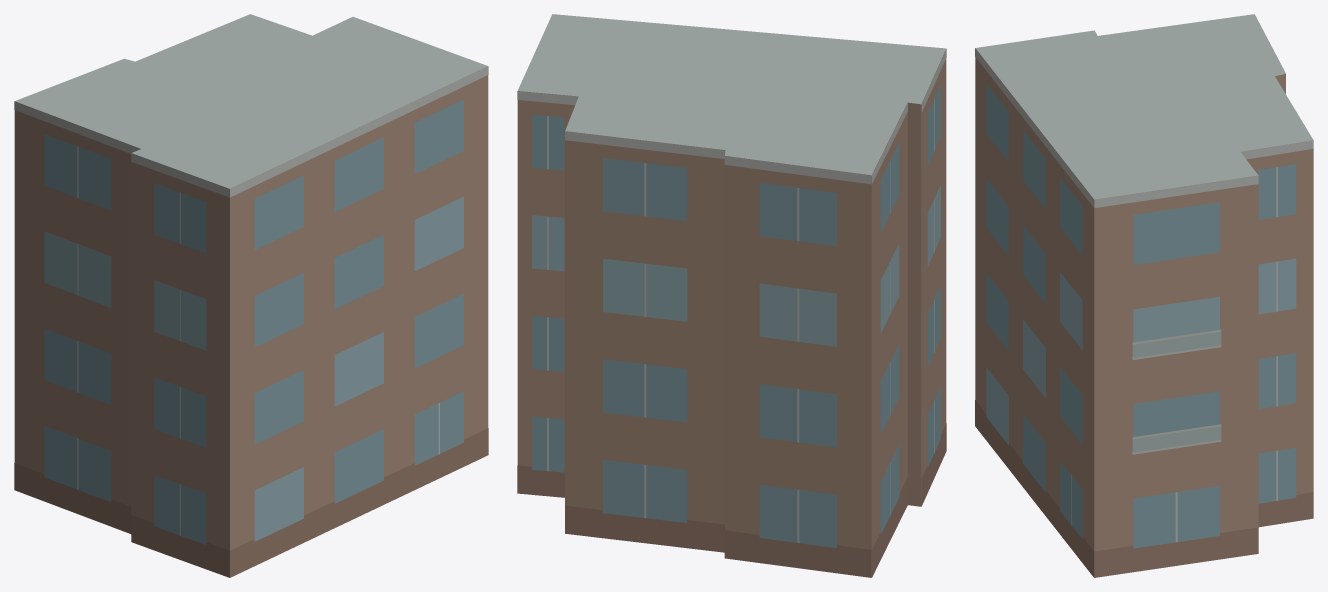
The model's file is survey-upis-32462326.glb.
The picture shows the model from 3 angles, left to right: view 1: azimuth 30°, elevation 25°; view 2: azimuth 150°, elevation 25°; view 3: azimuth 270°, elevation 25°; orthographic projection. The views are drawn at different scales.
Visible parts, largest first — view 1: survey-upis-32462326.tmp; view 2: survey-upis-32462326.tmp; view 3: survey-upis-32462326.tmp.
Part boxes in pixels (left/top/right/bottom): survey-upis-32462326.tmp: left=14, top=14, right=488, bottom=577; survey-upis-32462326.tmp: left=517, top=14, right=946, bottom=577; survey-upis-32462326.tmp: left=975, top=14, right=1313, bottom=577.
Size of the model in its own units: 11.38 by 10.8 by 8.77.
